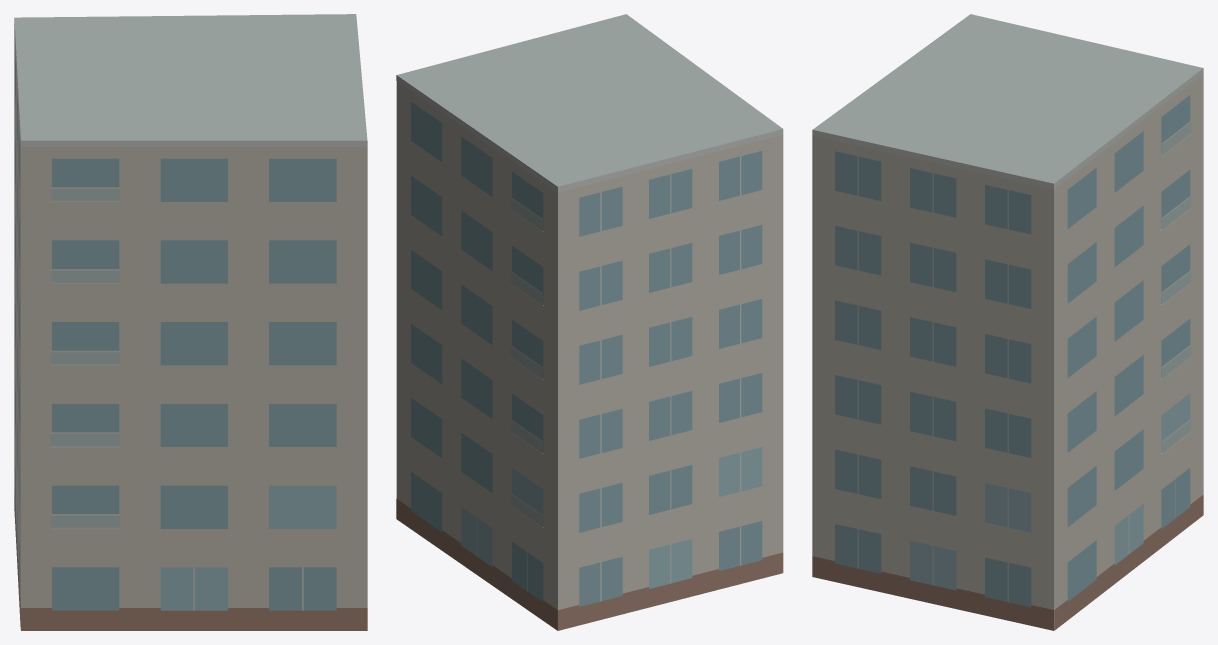
File: survey-upis-32986358.glb
3 renders of one model, left to right at view 1: azimuth 30°, elevation 25°; view 2: azimuth 150°, elevation 25°; view 3: azimuth 270°, elevation 25°, orthographic. The views are drawn at different scales.
Parts seen in each view (by area): view 1: survey-upis-32986358.tmp; view 2: survey-upis-32986358.tmp; view 3: survey-upis-32986358.tmp.
Part boxes in pixels (x1,y1,x2,y2): survey-upis-32986358.tmp: (14,14,367,630); survey-upis-32986358.tmp: (396,14,783,630); survey-upis-32986358.tmp: (812,14,1203,630).
Size of the model in its own units: 14.9 by 18.3 by 14.51.
